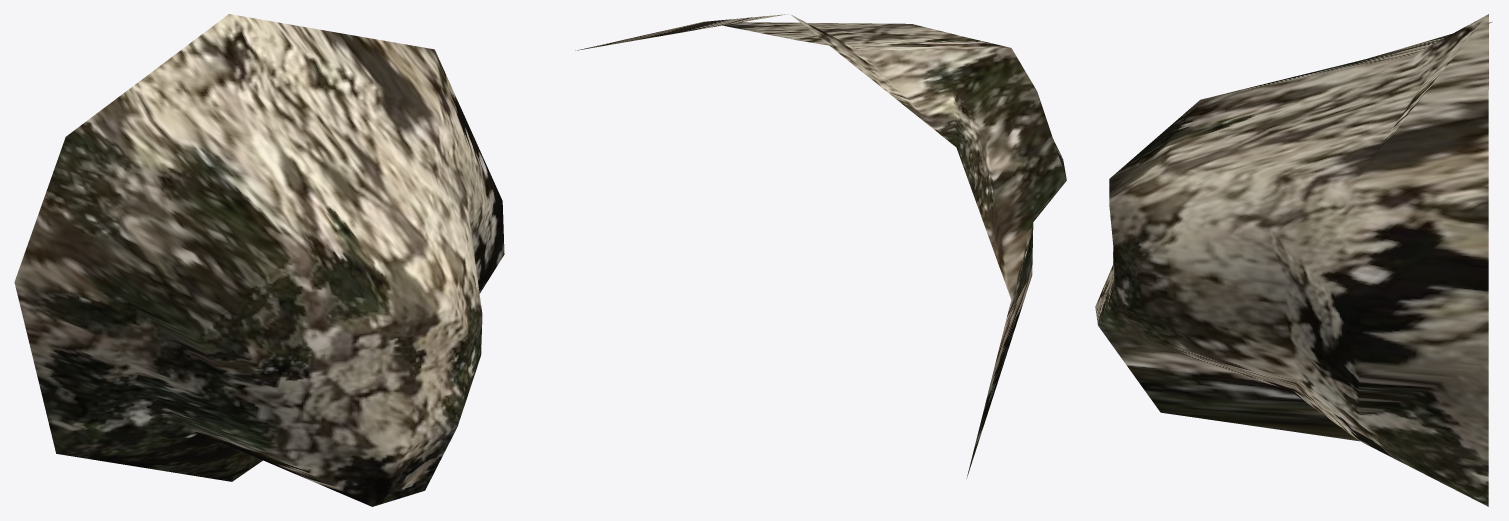
3 renders of one model, left to right at view 1: azimuth 30°, elevation 25°; view 2: azimuth 150°, elevation 25°; view 3: azimuth 270°, elevation 25°, orthographic. The views are drawn at different scales.
Visible parts, largest first — view 1: model_Object31; view 2: model_Object31; view 3: model_Object31.
Part boxes in pixels (x1,y1,x2,y2): model_Object31: (14,14,504,506); model_Object31: (575,14,1066,478); model_Object31: (1095,14,1491,506).
Bounding box in the file's own units: 1.76 × 1.73 × 1.3.
1 material, 1 textured.
